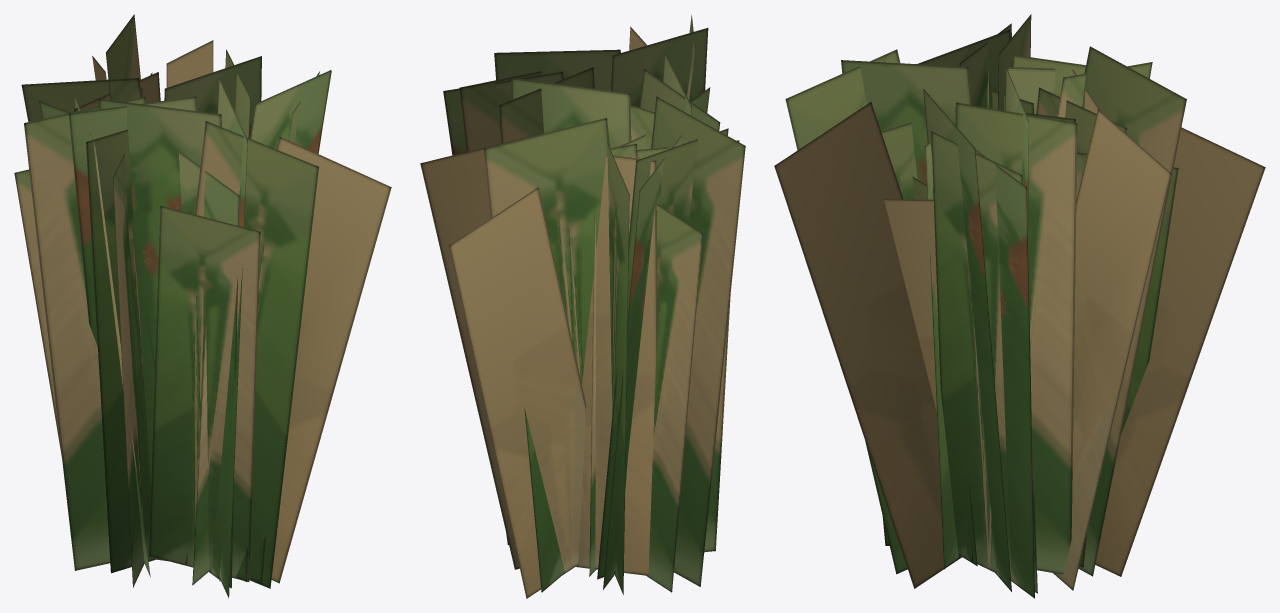
File: rush.glb
3 views of the same model, side by side, from view 1: azimuth 30°, elevation 25°; view 2: azimuth 150°, elevation 25°; view 3: azimuth 270°, elevation 25° (orthographic). The views are drawn at different scales.
Visible parts, largest first — view 1: rush_a_lod0; view 2: rush_a_lod0; view 3: rush_a_lod0.
Boxes of the visible parts, x1,y1,x2,y2 form: rush_a_lod0: (14, 14, 391, 598); rush_a_lod0: (420, 15, 745, 598); rush_a_lod0: (774, 14, 1265, 598).
Size of what is drawn, in the model's own units: 0.3511 by 0.5429 by 0.4786.
Materials: 1 (1 with a texture image).
